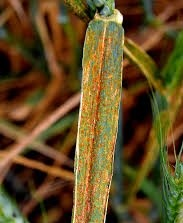Leaf Rust: (72, 40, 122, 209)
